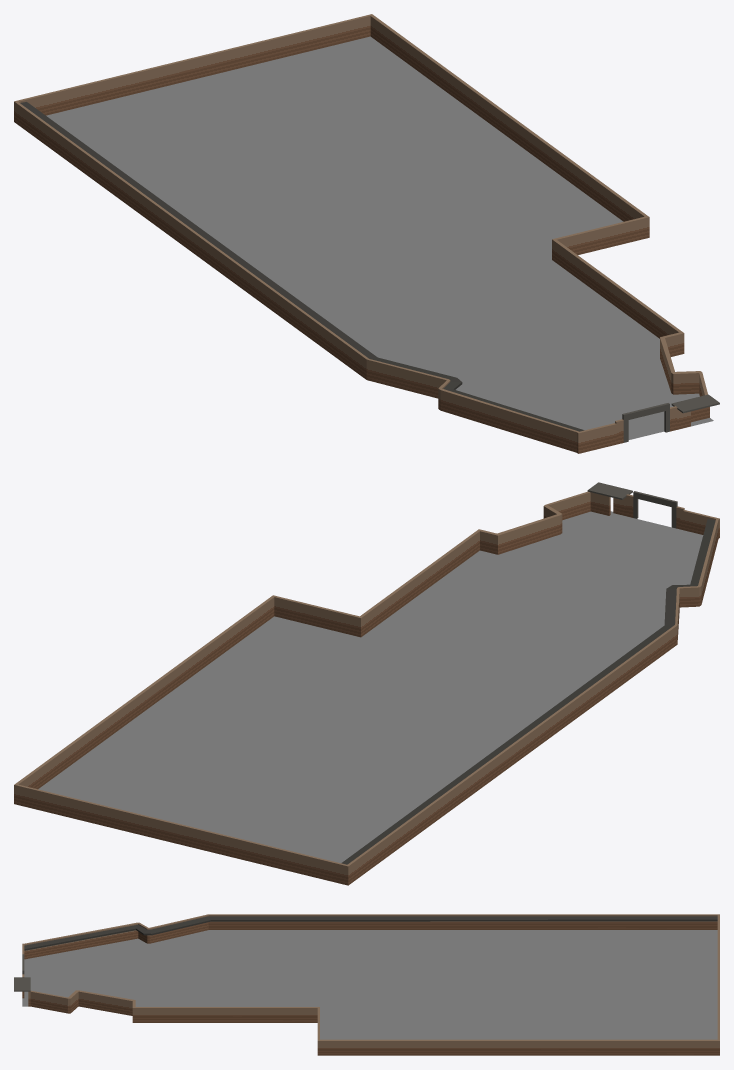
The model's file is qcu_base.glb.
The picture shows the model from 3 angles, top to bottom: view 1: azimuth 30°, elevation 25°; view 2: azimuth 150°, elevation 25°; view 3: azimuth 270°, elevation 25°; orthographic projection. The views are drawn at different scales.
Visible parts, largest first — view 1: wall; view 2: wall; view 3: wall.
Boxes of the visible parts, bbox=[...] form: wall: bbox=[14, 14, 719, 453]; wall: bbox=[14, 482, 719, 885]; wall: bbox=[14, 914, 719, 1055].
Bounding box in the file's own units: 7.28 × 0.54 × 17.14.
2 materials, 2 textured.
